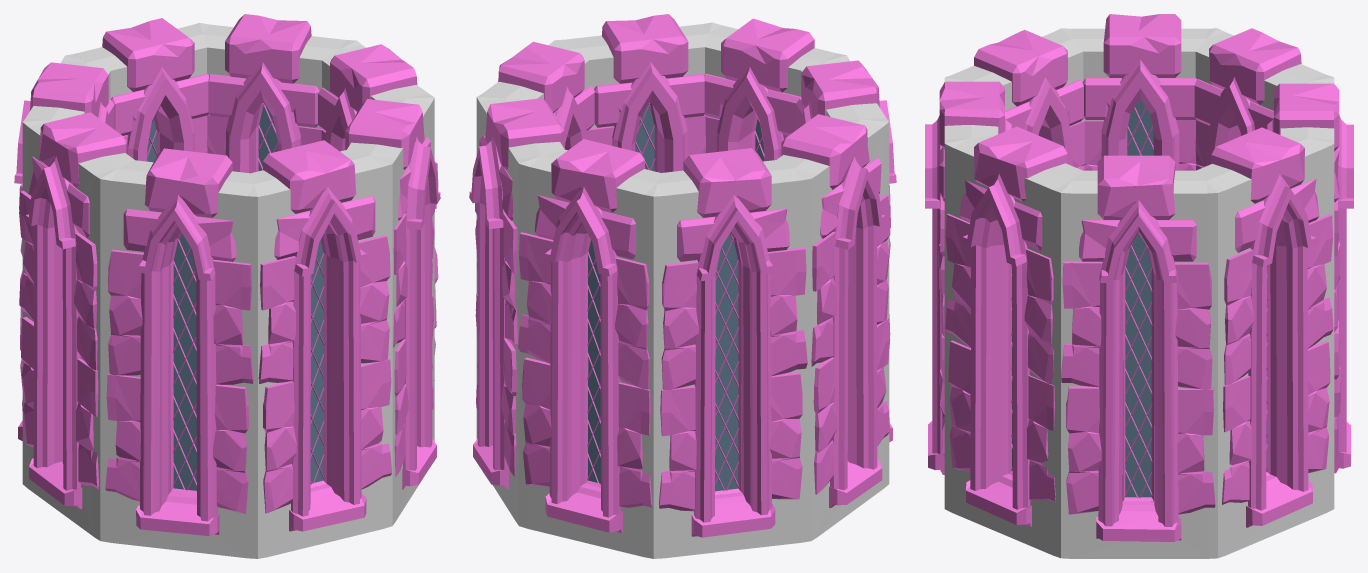
File: SM_Tower_Round_3m_Windows_Nice_Fantasy.fbx
3 views of the same model, side by side, from view 1: azimuth 30°, elevation 25°; view 2: azimuth 150°, elevation 25°; view 3: azimuth 270°, elevation 25° (orthographic).
Parts seen in each view (by area): view 1: SM_Tower_Round_3m_Windows_Nice_Fantasy; view 2: SM_Tower_Round_3m_Windows_Nice_Fantasy; view 3: SM_Tower_Round_3m_Windows_Nice_Fantasy.
Boxes of the visible parts, x1,y1,x2,y2 form: SM_Tower_Round_3m_Windows_Nice_Fantasy: (14, 14, 440, 558); SM_Tower_Round_3m_Windows_Nice_Fantasy: (469, 14, 896, 558); SM_Tower_Round_3m_Windows_Nice_Fantasy: (925, 14, 1353, 558).
Size of the model in its own units: 3.2 by 3.12 by 3.19.
